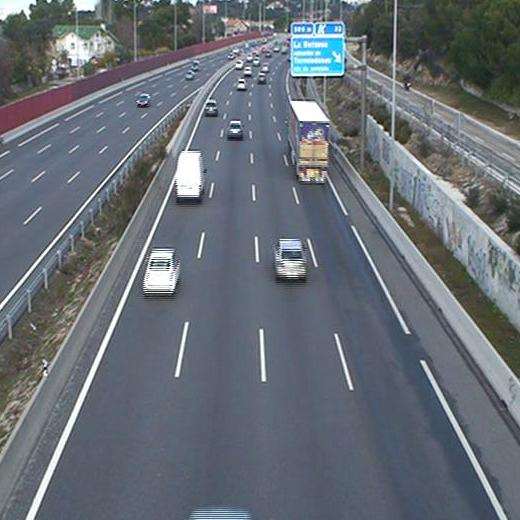car: (144, 251, 179, 292), (276, 240, 308, 278), (227, 121, 242, 136), (203, 100, 217, 116), (235, 78, 246, 90), (258, 74, 267, 85)
truck: (289, 100, 328, 182)
van: (176, 152, 203, 200)
